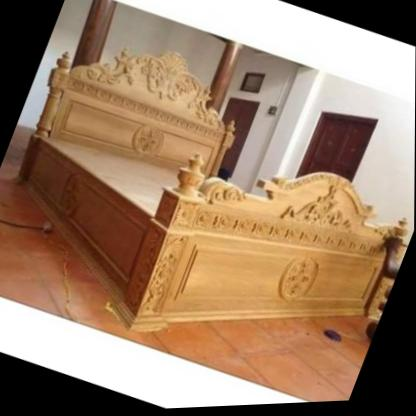Bed: (0, 3, 416, 381)
